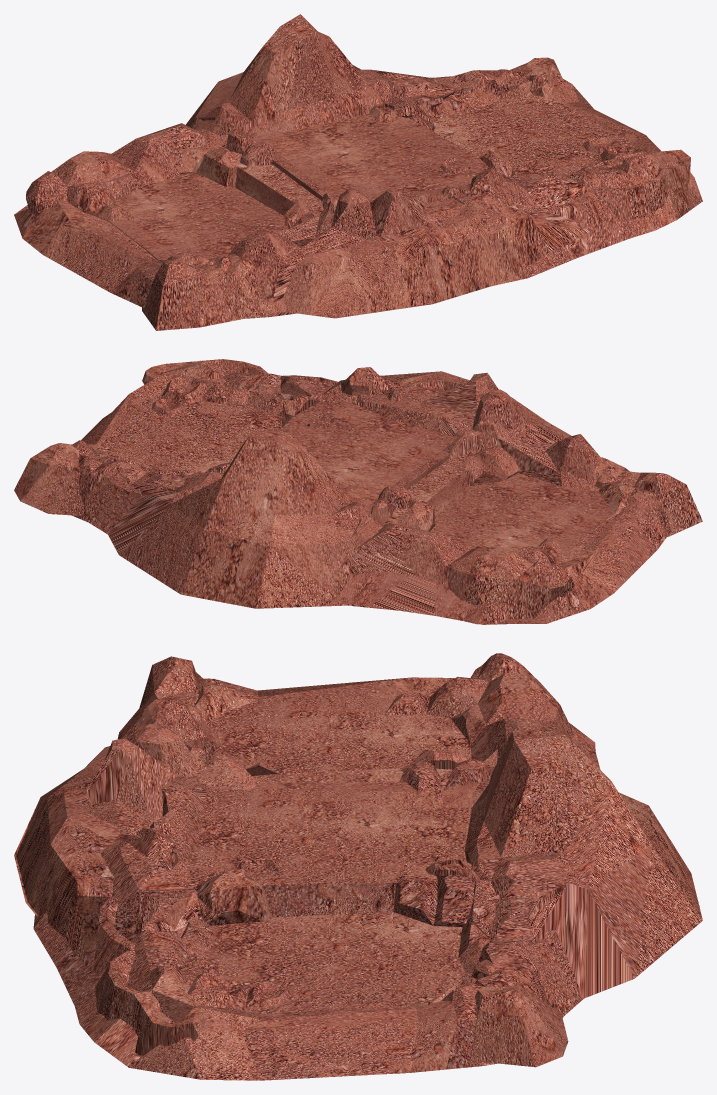
File: cristalbot_terrenos.glb
3 renders of one model, top to bottom at view 1: azimuth 30°, elevation 25°; view 2: azimuth 150°, elevation 25°; view 3: azimuth 270°, elevation 25°, orthographic. The views are drawn at different scales.
Visible parts, largest first — view 1: terrenoMarte, terrenoLua; view 2: terrenoMarte, terrenoLua; view 3: terrenoMarte, terrenoLua.
Part boxes in pixels (x1,y1,x2,y2): terrenoMarte: (26, 14, 702, 330); terrenoLua: (14, 57, 690, 318); terrenoMarte: (71, 360, 702, 624); terrenoLua: (14, 359, 671, 624); terrenoMarte: (33, 653, 702, 1080); terrenoLua: (14, 677, 600, 1067).
Size of the model in its own units: 61.6 by 13.79 by 47.25.
Materials: 1 (1 with a texture image).
